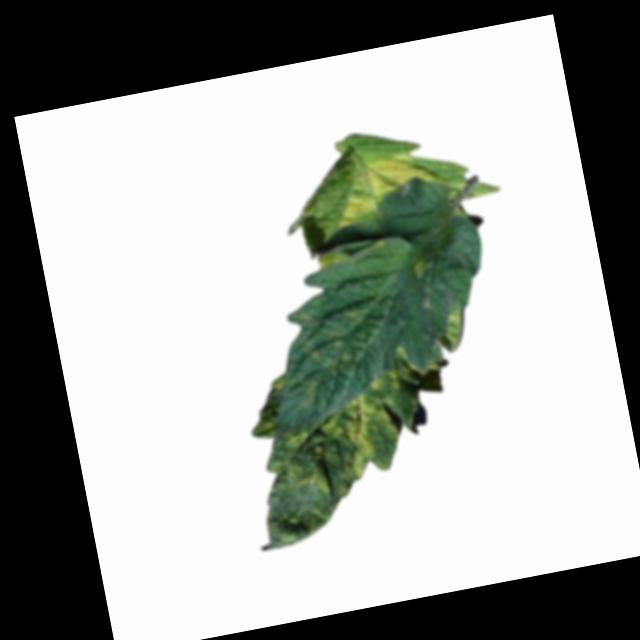Leaf_Mold: (279, 285, 413, 409), (326, 144, 447, 229), (334, 387, 406, 481)
